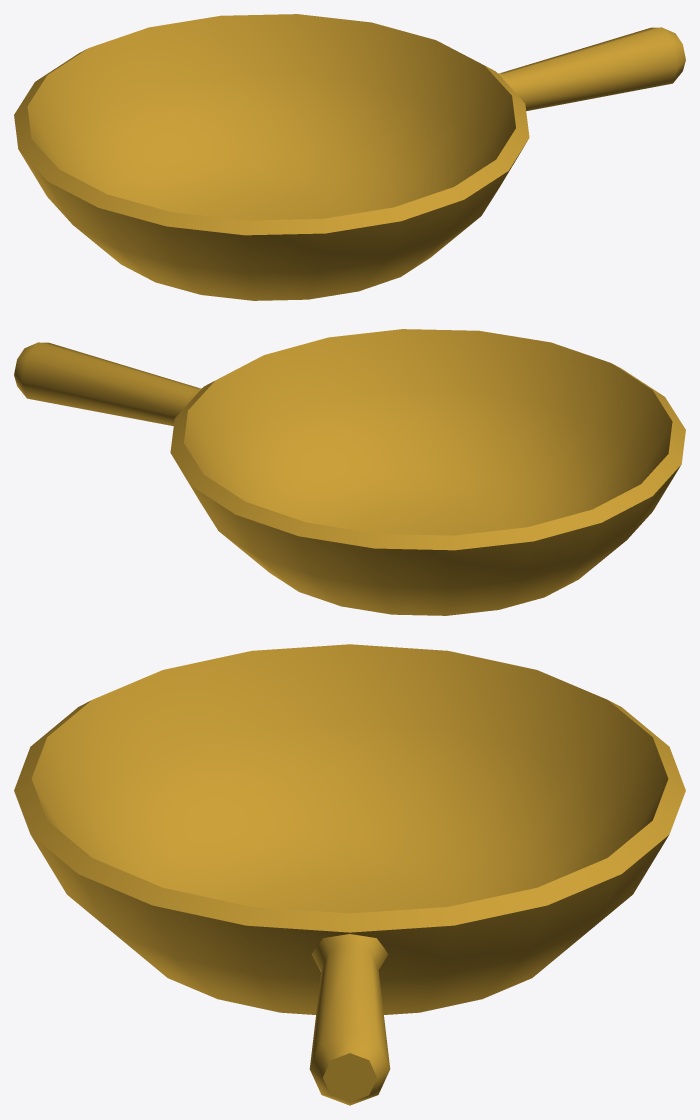
Rendered from SM_pan_01.fbx.
3 views of the same model, one above another, from view 1: azimuth 30°, elevation 25°; view 2: azimuth 150°, elevation 25°; view 3: azimuth 270°, elevation 25° (orthographic). The views are drawn at different scales.
Visible parts, largest first — view 1: Cylinder116; view 2: Cylinder116; view 3: Cylinder116.
Boxes of the visible parts, x1,y1,x2,y2 form: Cylinder116: (14,14,685,300); Cylinder116: (14,329,685,615); Cylinder116: (14,644,685,1105).
Bounding box in the file's own units: 24.6 × 4.99 × 17.58.
